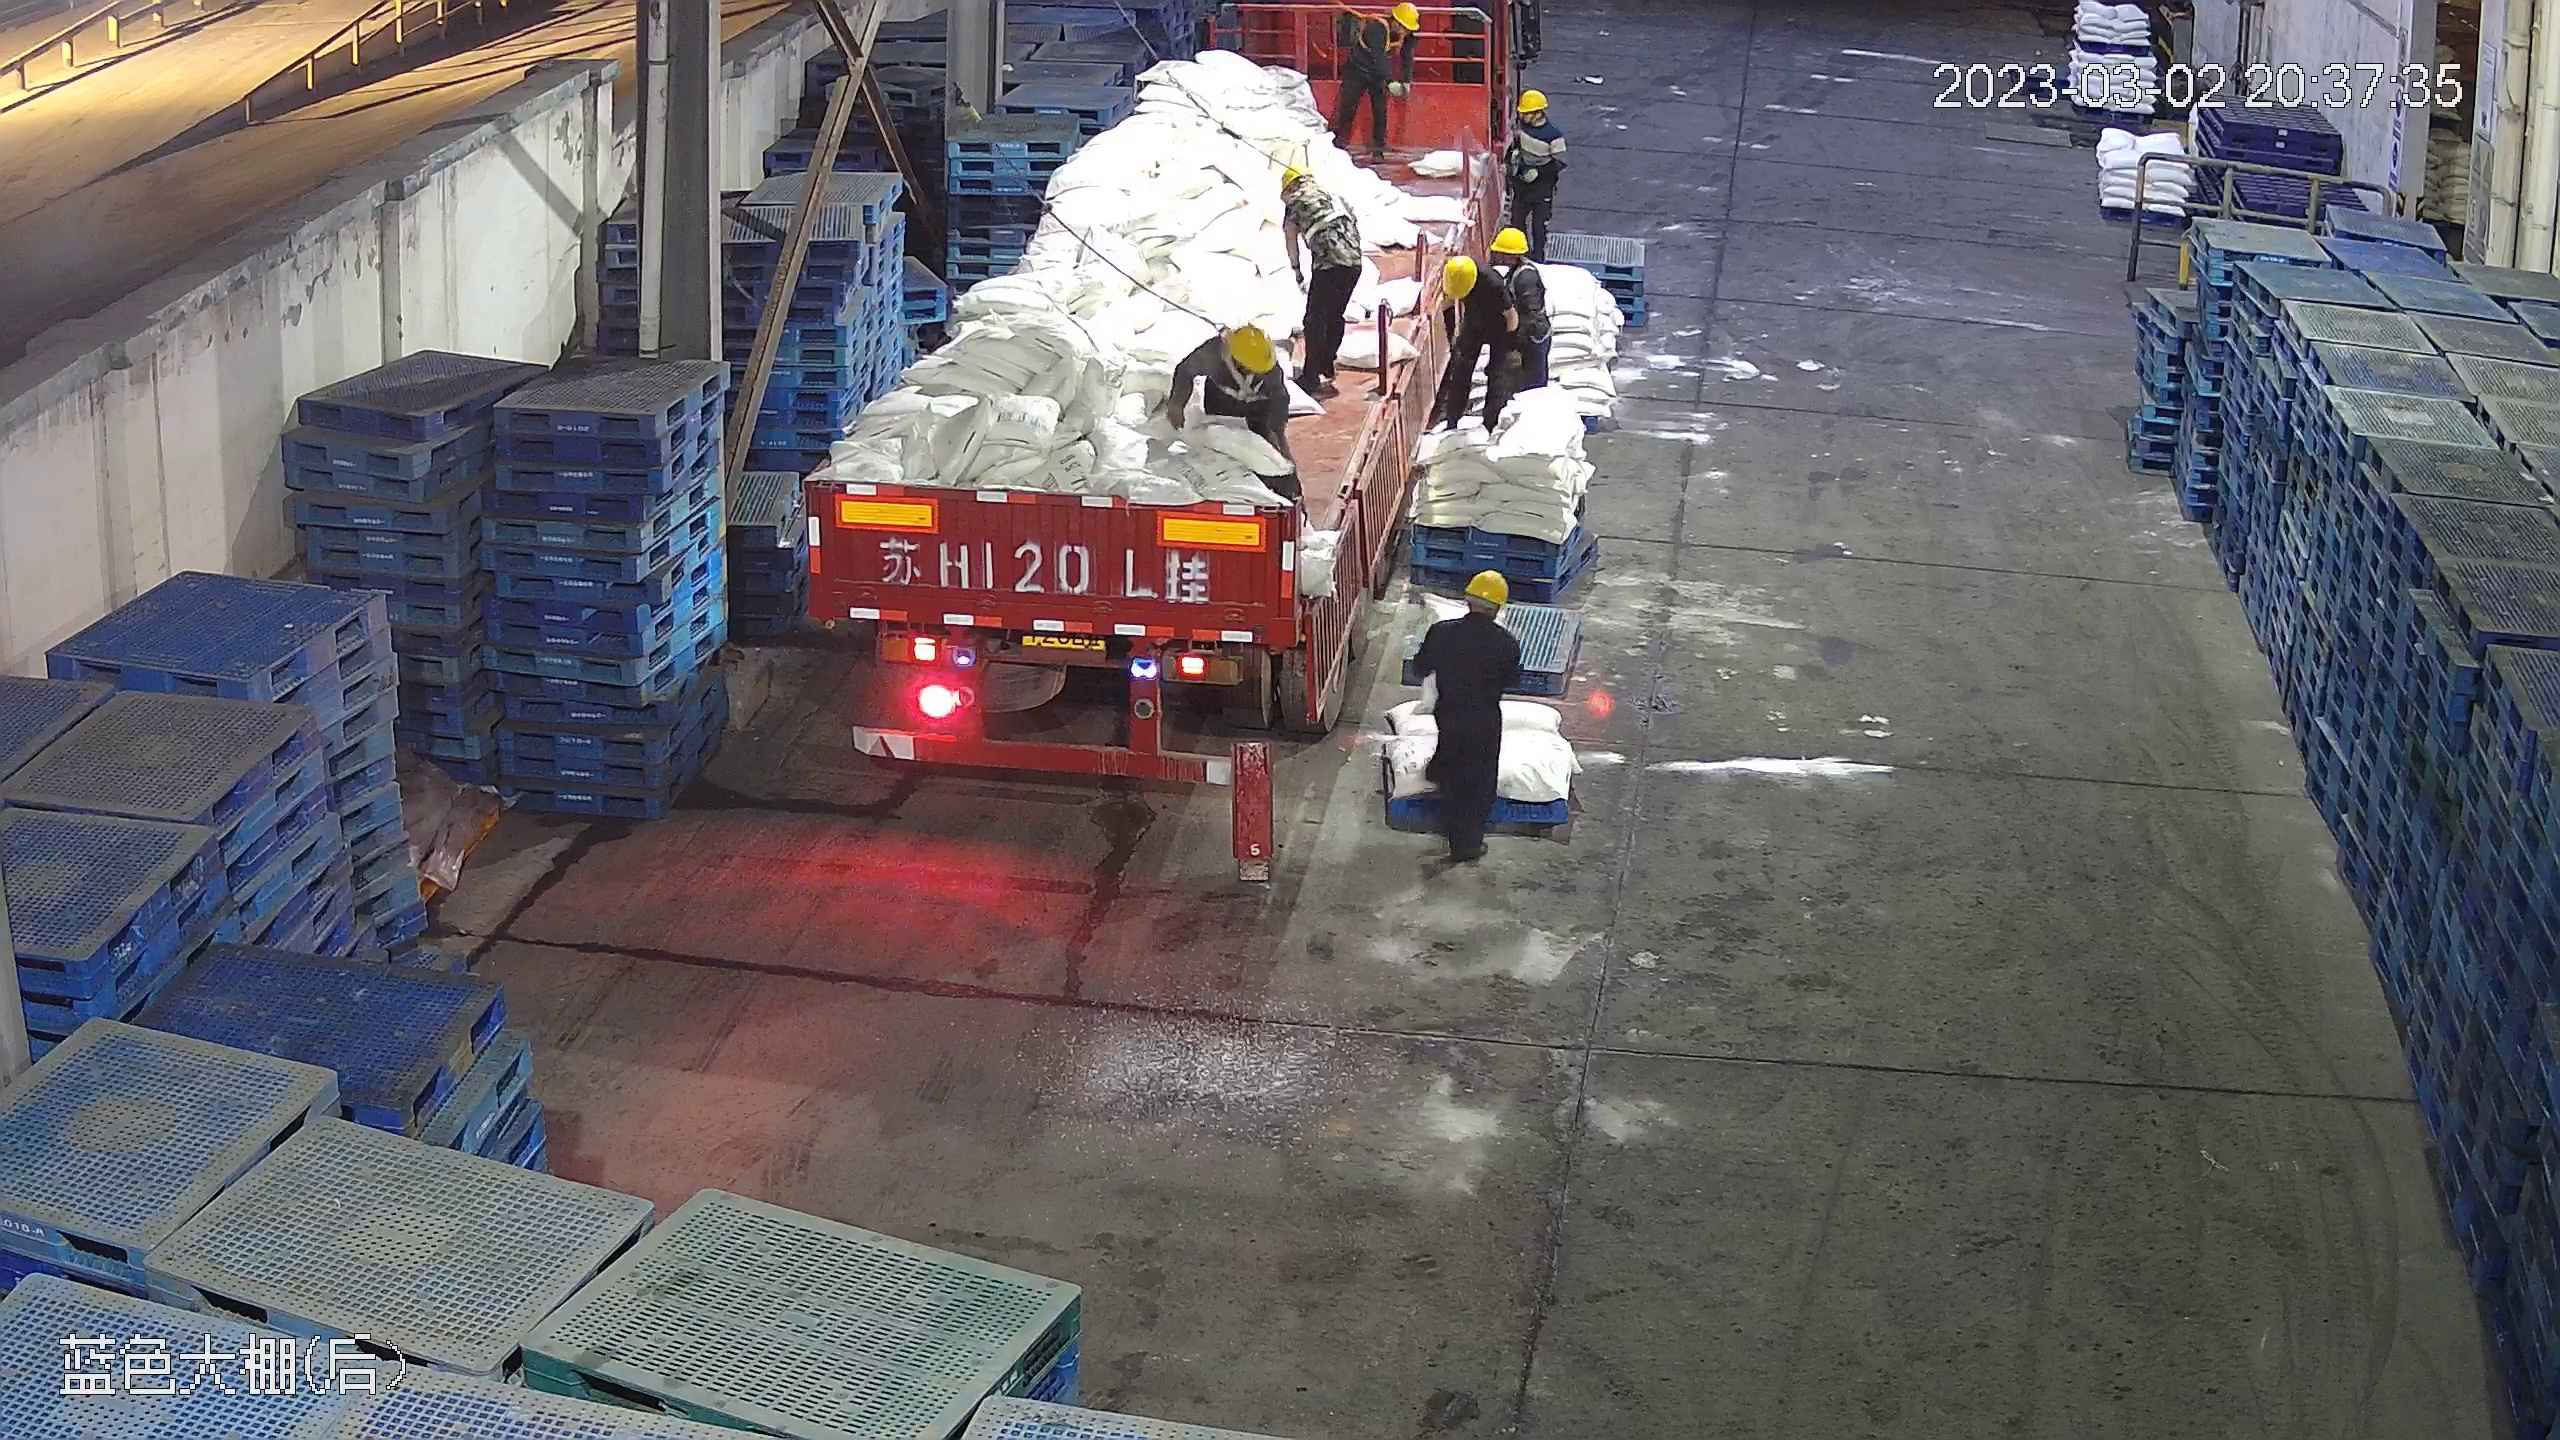belt: (1302, 189, 1364, 251), (1210, 341, 1269, 406), (1348, 5, 1408, 56), (1502, 260, 1543, 308)
head: (1426, 566, 1517, 661), (1188, 319, 1286, 391), (1465, 225, 1541, 306), (1433, 246, 1509, 316), (1278, 163, 1350, 232), (1505, 88, 1562, 151), (1357, 1, 1420, 51)
helmet: (1228, 323, 1276, 372), (1459, 567, 1510, 606), (1439, 252, 1478, 301), (1489, 222, 1534, 254), (1276, 160, 1310, 193), (1384, 2, 1416, 36), (1518, 86, 1549, 108)
people: (1390, 567, 1565, 871), (1275, 159, 1364, 402), (1432, 236, 1535, 442), (1330, 2, 1418, 171), (1495, 88, 1566, 265)
truck: (789, 17, 1486, 774)
